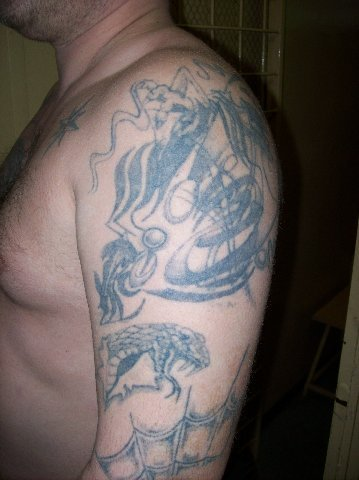tatu4_zvezda: (42, 97, 91, 144)
tatu7_zmeya: (92, 319, 215, 398)
